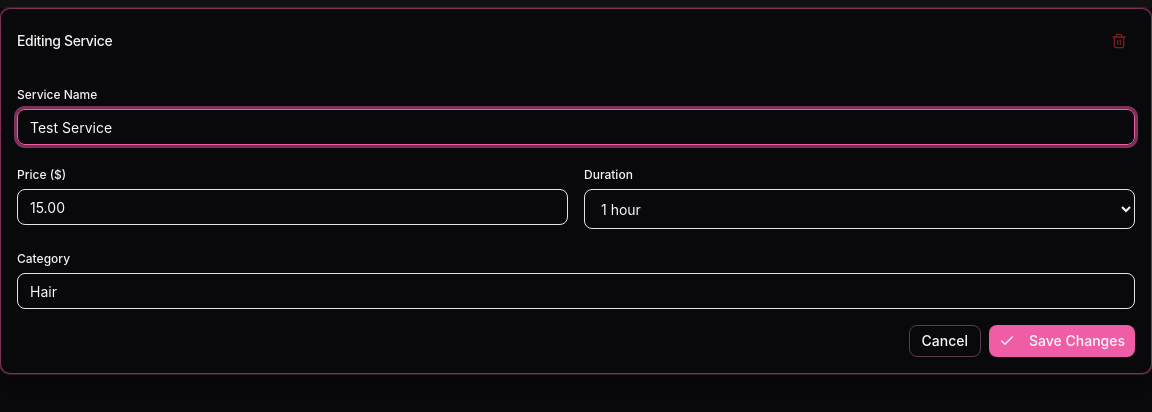
Test: ServiceCardExpanded › validates required fields
This screenshot has width=1152, height=412.
Note: Clear name
Clear the field showing "Test Service" below "Service Name" at coordinates (576, 127), box [17,109,1135,145]
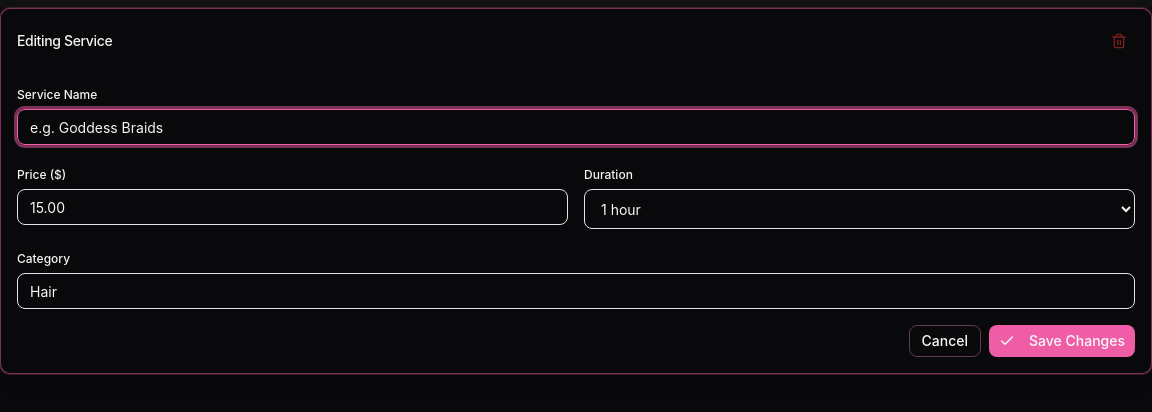
Note: Try to save
Click the button "Save Changes".
click(1062, 341)  # box [989,325,1135,357]
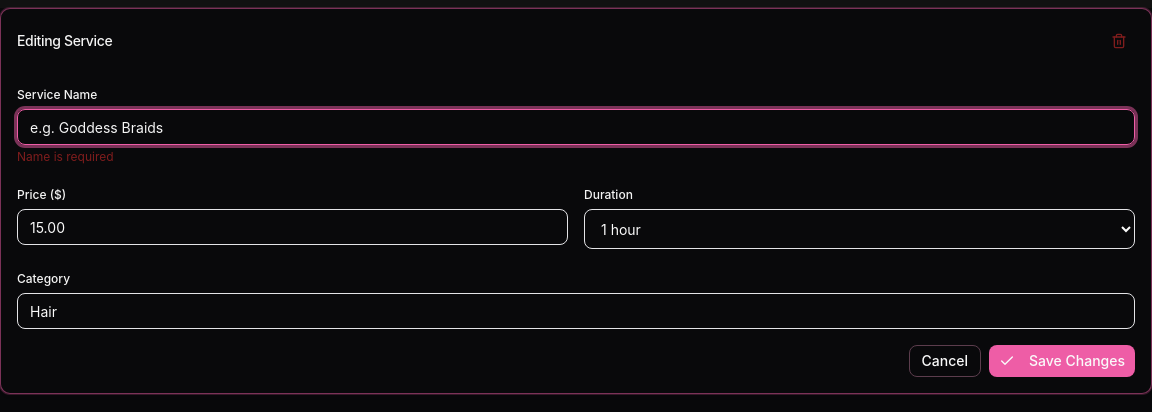
expect the text "Name is required" is shown: met, box [17,149,114,164]
